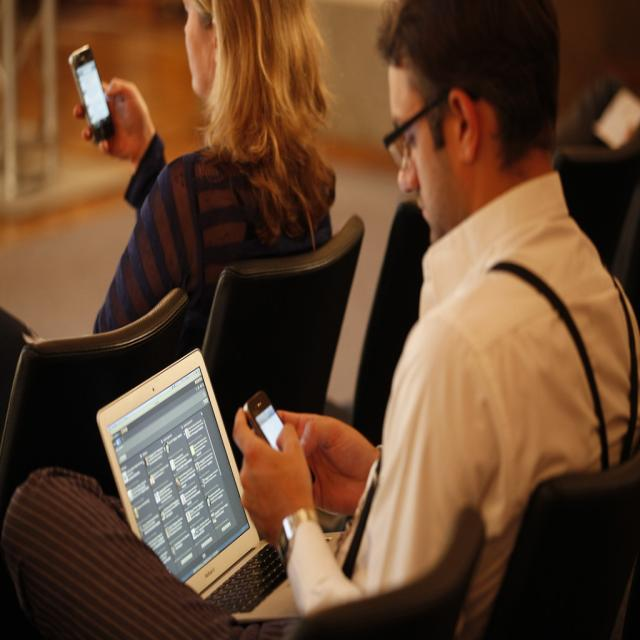Mobile-phone: (242, 390, 318, 488), (60, 40, 119, 154)
